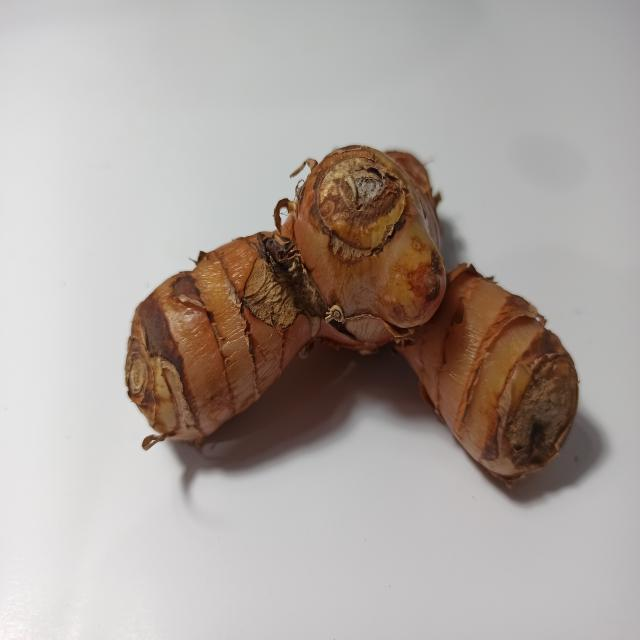ginger: (98, 109, 598, 508)
